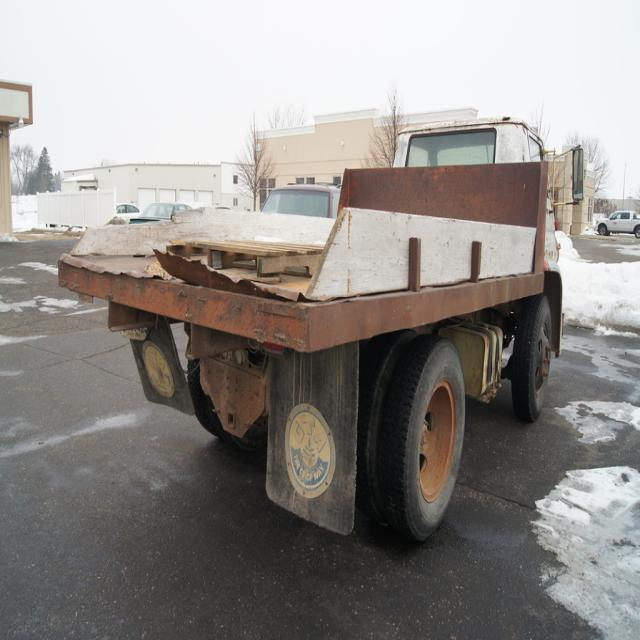Heavy Duty Truck: (49, 102, 572, 556)
Pickup Trucks: (594, 206, 640, 238)
